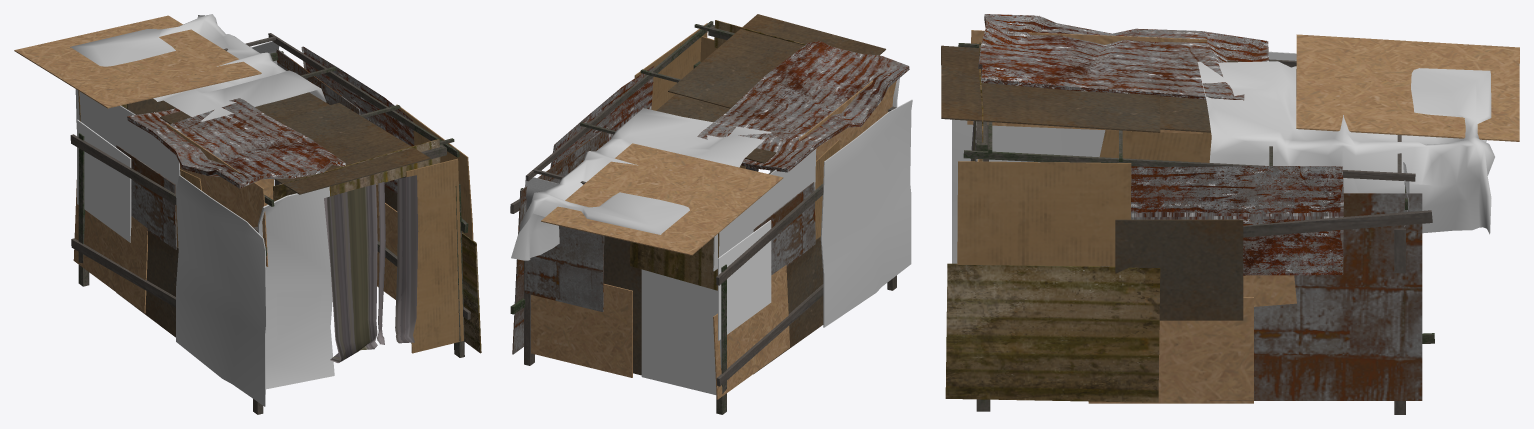
File: shack_hut_1.fbx
3 renders of one model, left to right at view 1: azimuth 30°, elevation 25°; view 2: azimuth 150°, elevation 25°; view 3: azimuth 270°, elevation 25°, orthographic. The views are drawn at different scales.
Visible parts, largest first — view 1: board_5x6, board_5x6_3, Curtain_low, board_5x6_3_2, damaged, board_5x6_4, Tarp_roof_1, board_5x6_2_2, board_4x3_1, board_3x3_1, board_5x6_2, board_2x3_1 (+15 smaller); view 2: board_5x6, damaged, board_5x6_3_2, Tarp_roof_1, board_3x4_3, board_5x6_2_2, board_3x4_2, board_3x3_2, board_4x3_1, board_3x3_1, board_5x6_2, board_3x6 (+16 smaller); view 3: board_5x4, board_5x6_1, Tarp_roof_1, board_4x3, board_5x6_3_2, damaged, lowpoly, board_3x3, board_5x6_2_2, board_3x4, board_5x6, board_3x4_1 (+6 smaller).
Part boxes in pixels (bbox=[...]): board_5x6: bbox=[176, 175, 266, 406]; board_5x6_3: bbox=[258, 186, 334, 389]; Curtain_low: bbox=[324, 175, 418, 362]; board_5x6_3_2: bbox=[14, 15, 261, 108]; damaged: bbox=[127, 98, 345, 188]; board_5x6_4: bbox=[406, 158, 463, 353]; Tarp_roof_1: bbox=[70, 14, 326, 121]; board_5x6_2_2: bbox=[274, 103, 430, 194]; board_4x3_1: bbox=[73, 180, 147, 313]; board_3x3_1: bbox=[77, 119, 131, 242]; board_5x6_2: bbox=[75, 89, 180, 193]; board_2x3_1: bbox=[116, 145, 176, 249]; board_5x6: bbox=[820, 99, 912, 327]; damaged: bbox=[697, 41, 909, 172]; board_5x6_3_2: bbox=[541, 143, 783, 255]; Tarp_roof_1: bbox=[511, 108, 771, 260]; board_3x4_3: bbox=[641, 269, 721, 395]; board_5x6_2_2: bbox=[668, 14, 885, 108]; board_3x4_2: bbox=[531, 284, 632, 377]; board_3x3_2: bbox=[524, 210, 604, 311]; board_4x3_1: bbox=[713, 265, 789, 399]; board_3x3_1: bbox=[718, 220, 771, 340]; board_5x6_2: bbox=[713, 148, 816, 271]; board_3x6: bbox=[753, 236, 823, 374]; board_5x4: bbox=[945, 263, 1160, 402]; board_5x6_1: bbox=[1210, 193, 1422, 400]; Tarp_roof_1: bbox=[1197, 61, 1494, 234]; board_4x3: bbox=[957, 161, 1131, 266]; board_5x6_3_2: bbox=[1296, 34, 1519, 141]; damaged: bbox=[978, 14, 1268, 100]; lowpoly: bbox=[1100, 166, 1343, 275]; board_3x3: bbox=[1115, 219, 1243, 320]; board_5x6_2_2: bbox=[941, 45, 1160, 132]; board_3x4: bbox=[1088, 297, 1253, 403]; board_5x6: bbox=[952, 119, 1105, 263]; board_3x4_1: bbox=[1099, 130, 1211, 162].
Size of the model in its own units: 209 by 203 by 376.
